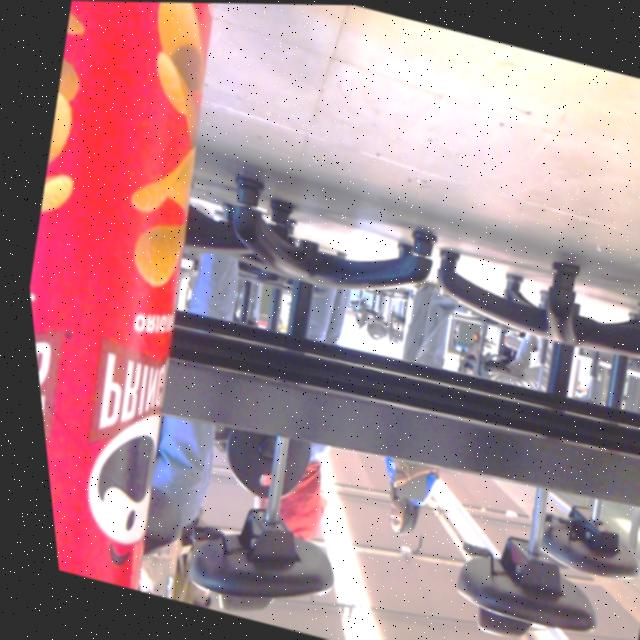redpringles: (0, 0, 298, 597)
